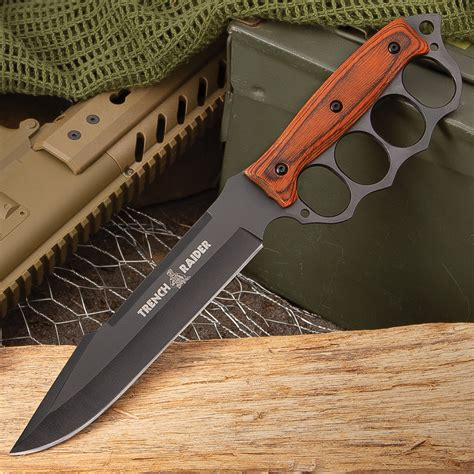knife: (9, 9, 464, 455)
